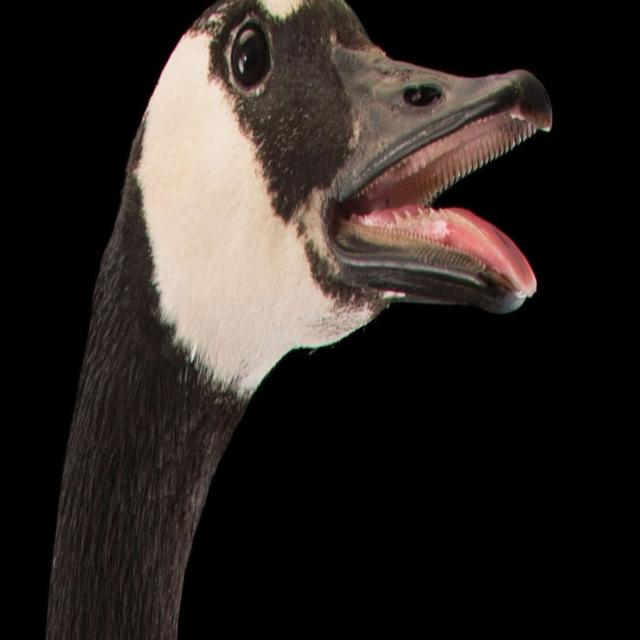Goose: (44, 0, 552, 640)
